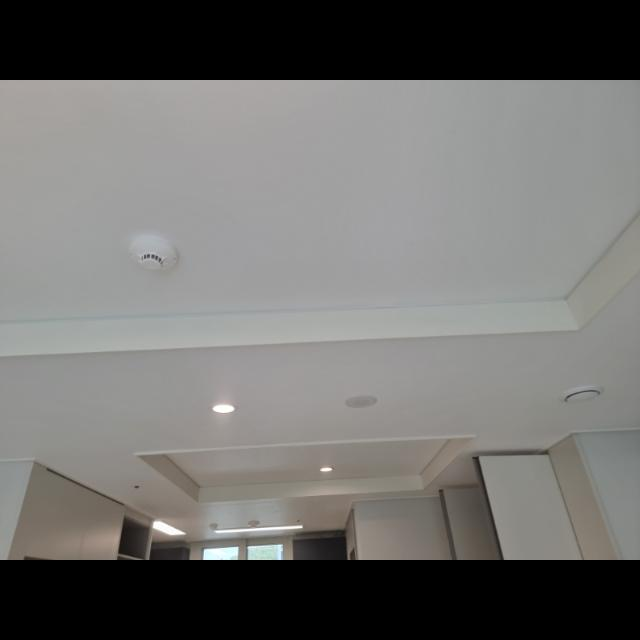Smoke-Detector: (131, 233, 177, 271)
